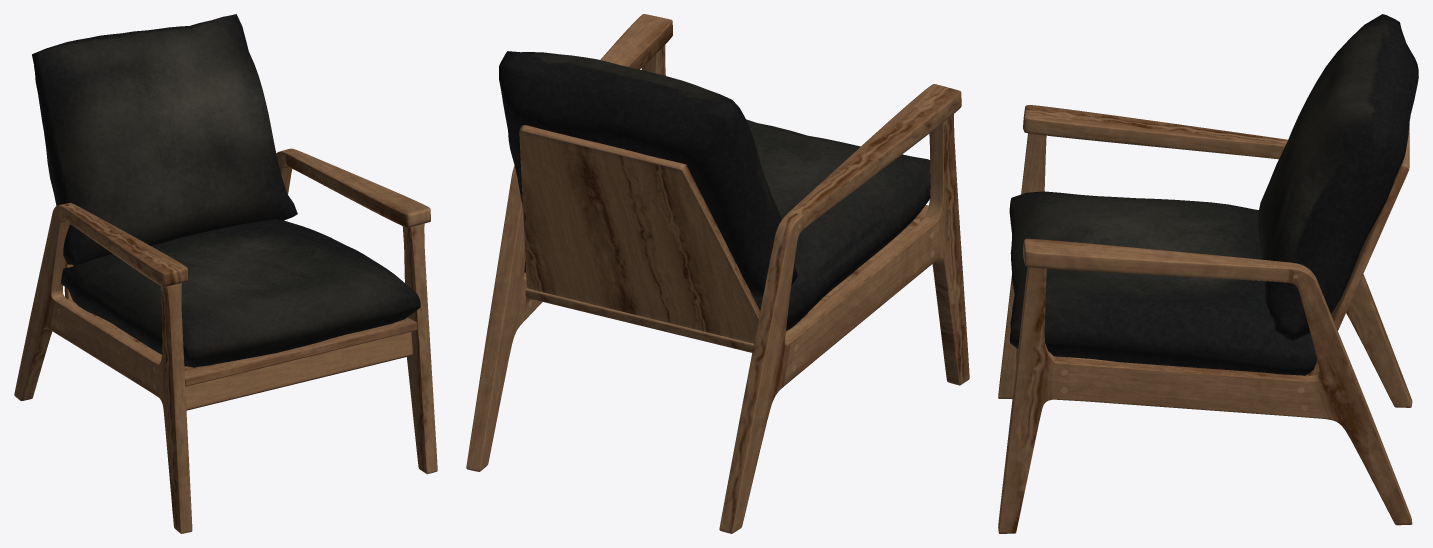
File: modern_arm_chair_01_floor_centered_1k_candidate.glb
3 renders of one model, left to right at view 1: azimuth 30°, elevation 25°; view 2: azimuth 150°, elevation 25°; view 3: azimuth 270°, elevation 25°, orthographic. The views are drawn at different scales.
Parts seen in each view (by area): view 1: modern_arm_chair_01; view 2: modern_arm_chair_01; view 3: modern_arm_chair_01.
Boxes of the visible parts, x1,y1,x2,y2 form: modern_arm_chair_01: (14, 14, 437, 533); modern_arm_chair_01: (466, 14, 969, 533); modern_arm_chair_01: (998, 14, 1418, 533).
Size of the model in its own units: 0.8203 by 1.02 by 0.9866.
2 materials, 2 textured.
